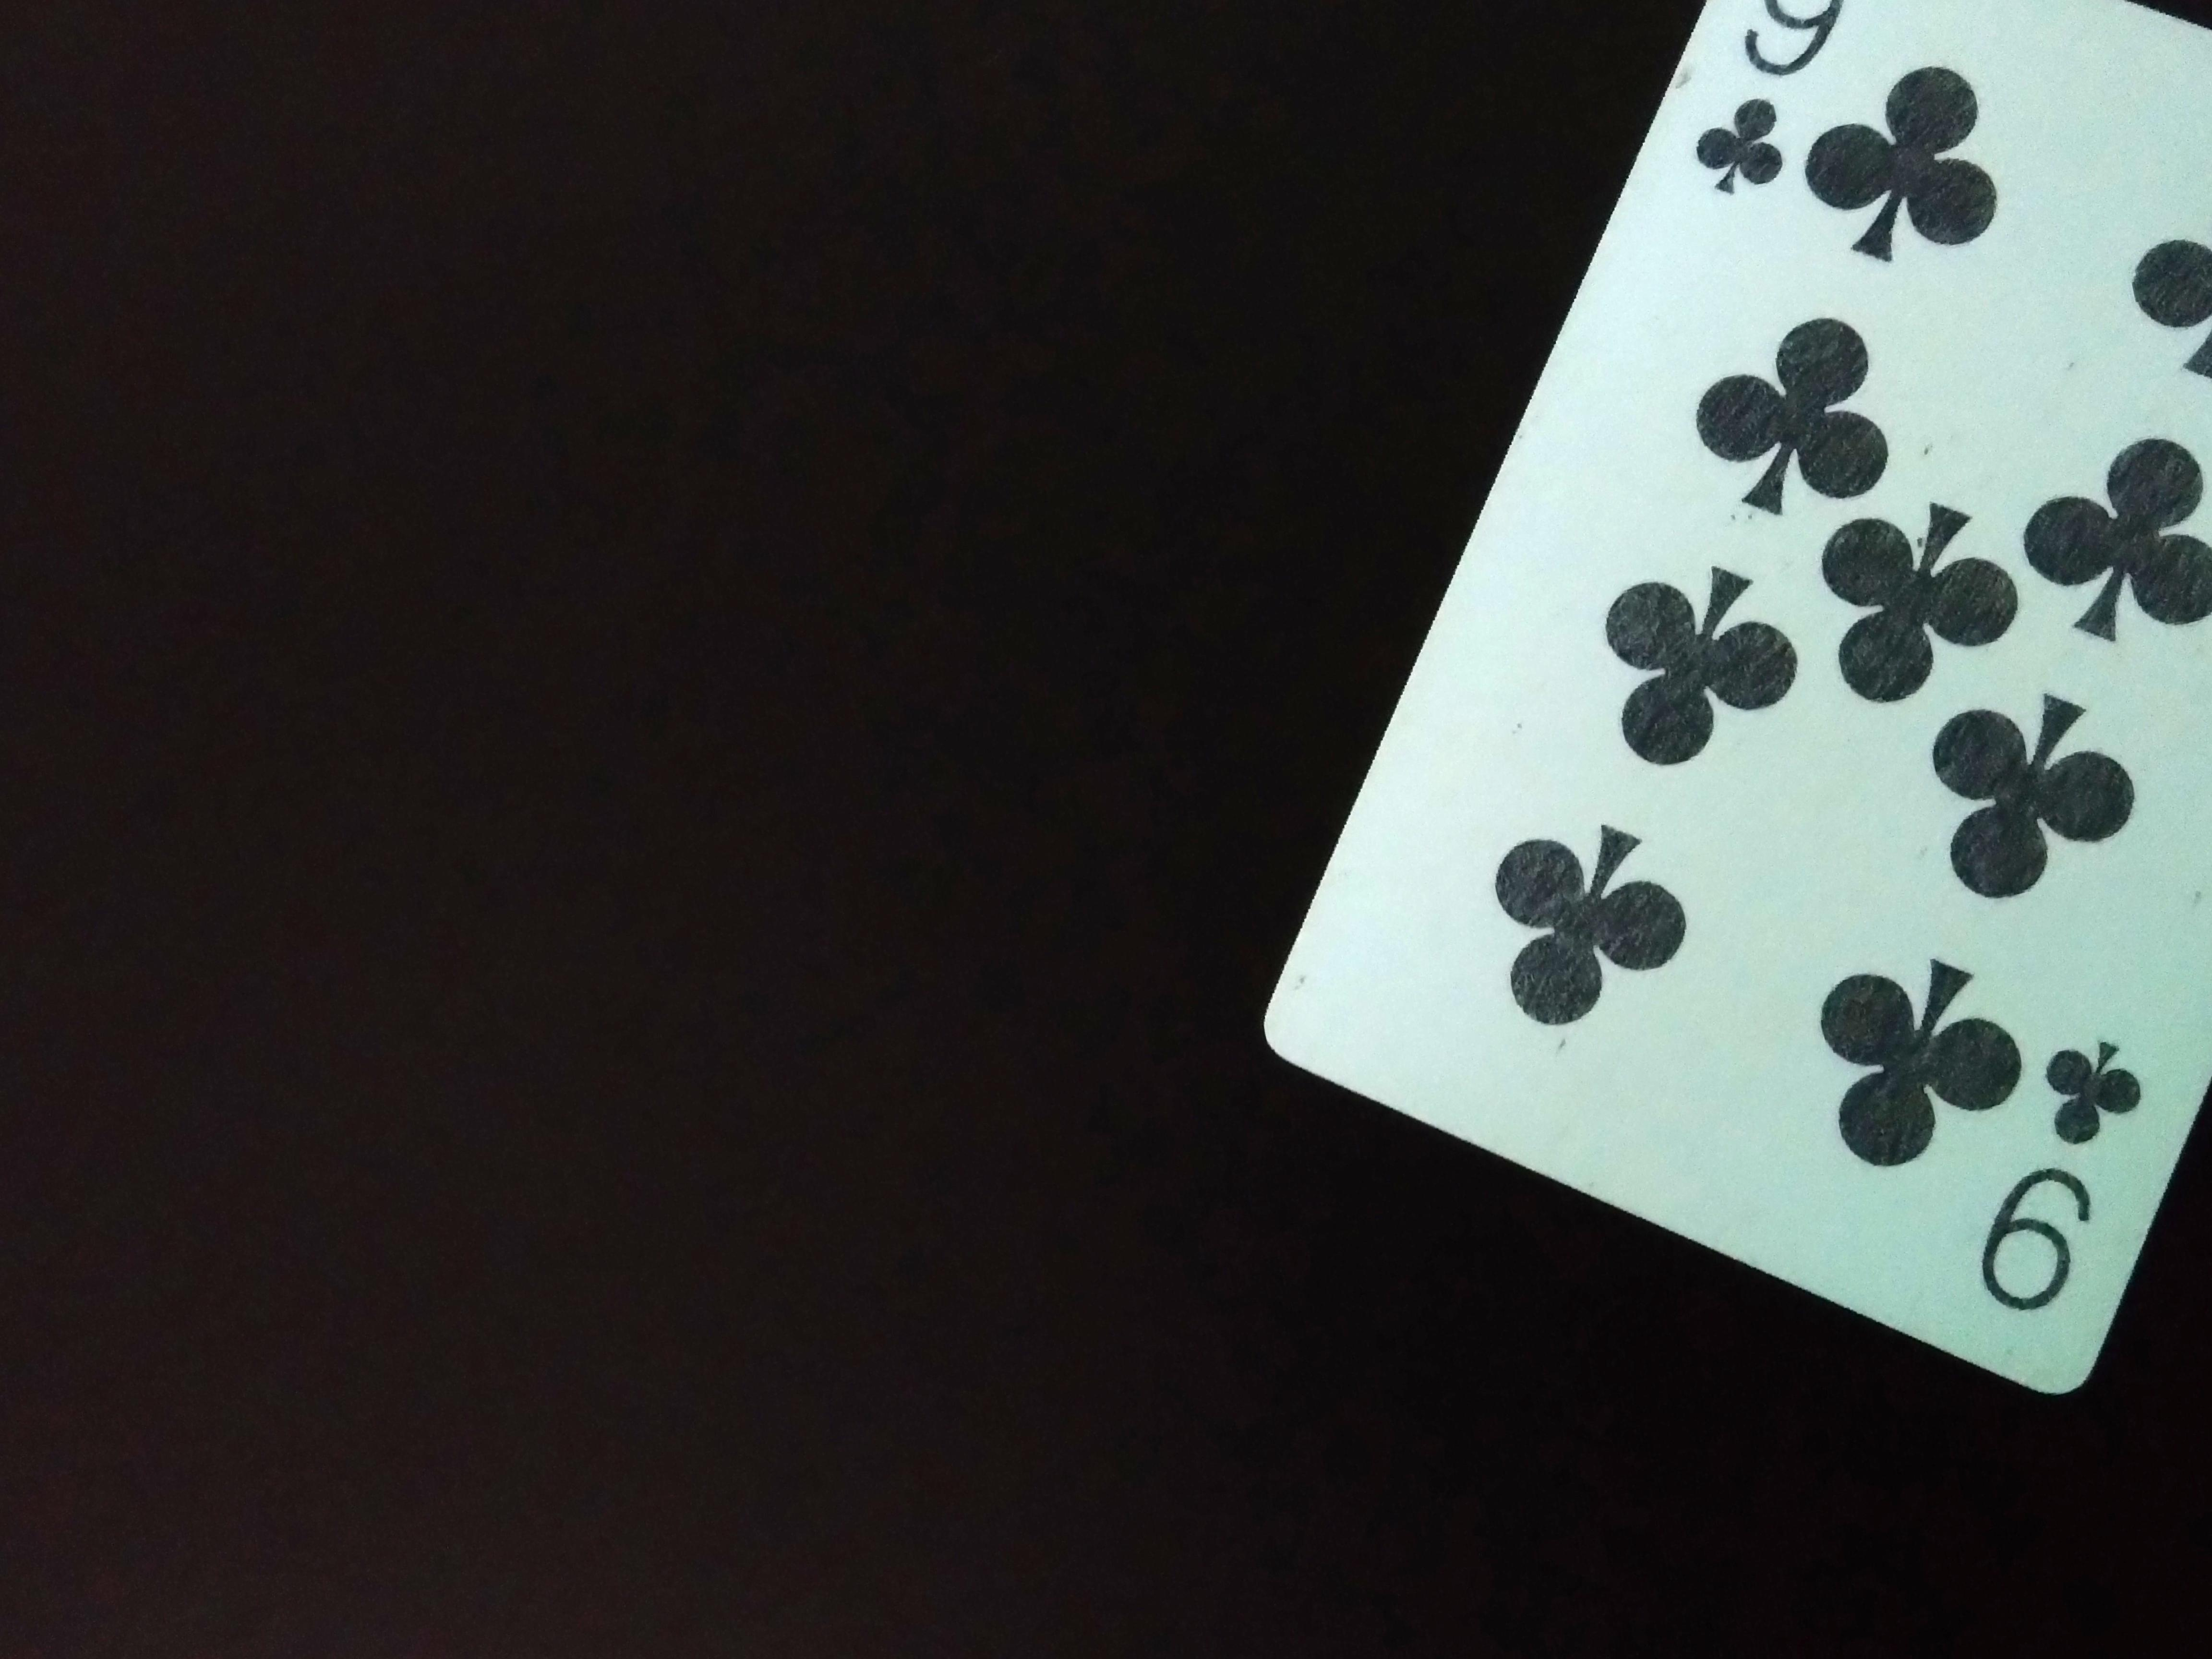9C: (1961, 1032, 2184, 1316)
